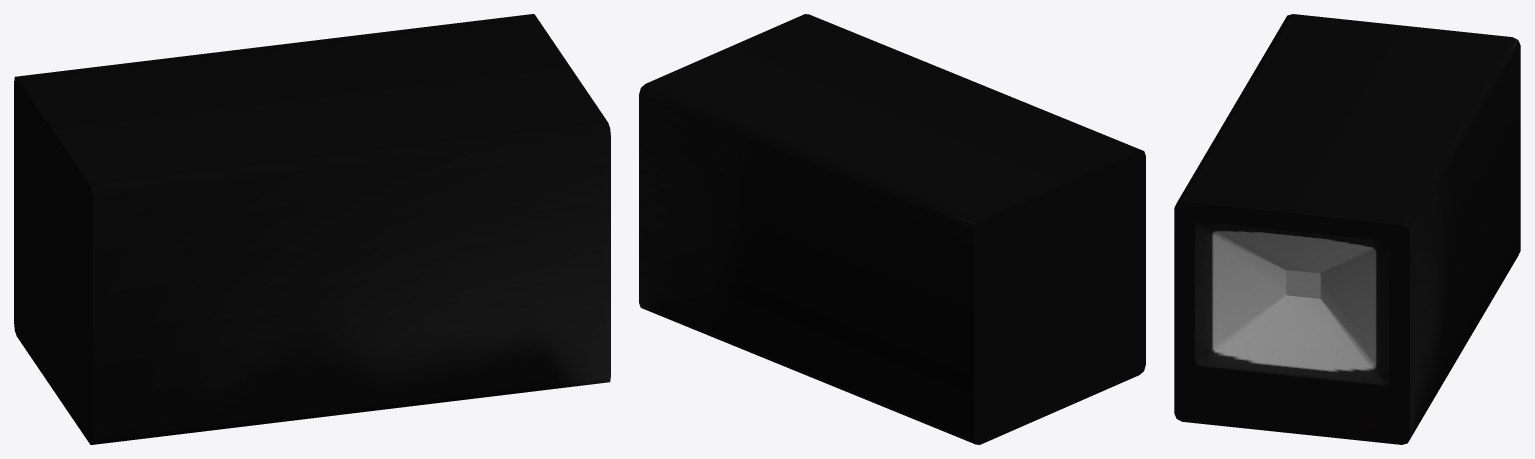
3 views of the same model, side by side, from view 1: azimuth 30°, elevation 25°; view 2: azimuth 150°, elevation 25°; view 3: azimuth 270°, elevation 25° (orthographic). The views are drawn at different scales.
Parts seen in each view (by area): view 1: tv 9; view 2: tv 9; view 3: tv 9.
Part boxes in pixels (x1=…): tv 9: x1=14, y1=14, x2=610, y2=444; tv 9: x1=639, y1=14, x2=1145, y2=444; tv 9: x1=1174, y1=14, x2=1520, y2=444.
Size of the model in its own units: 230 by 158 by 111.
Materials: 1 (1 with a texture image).
